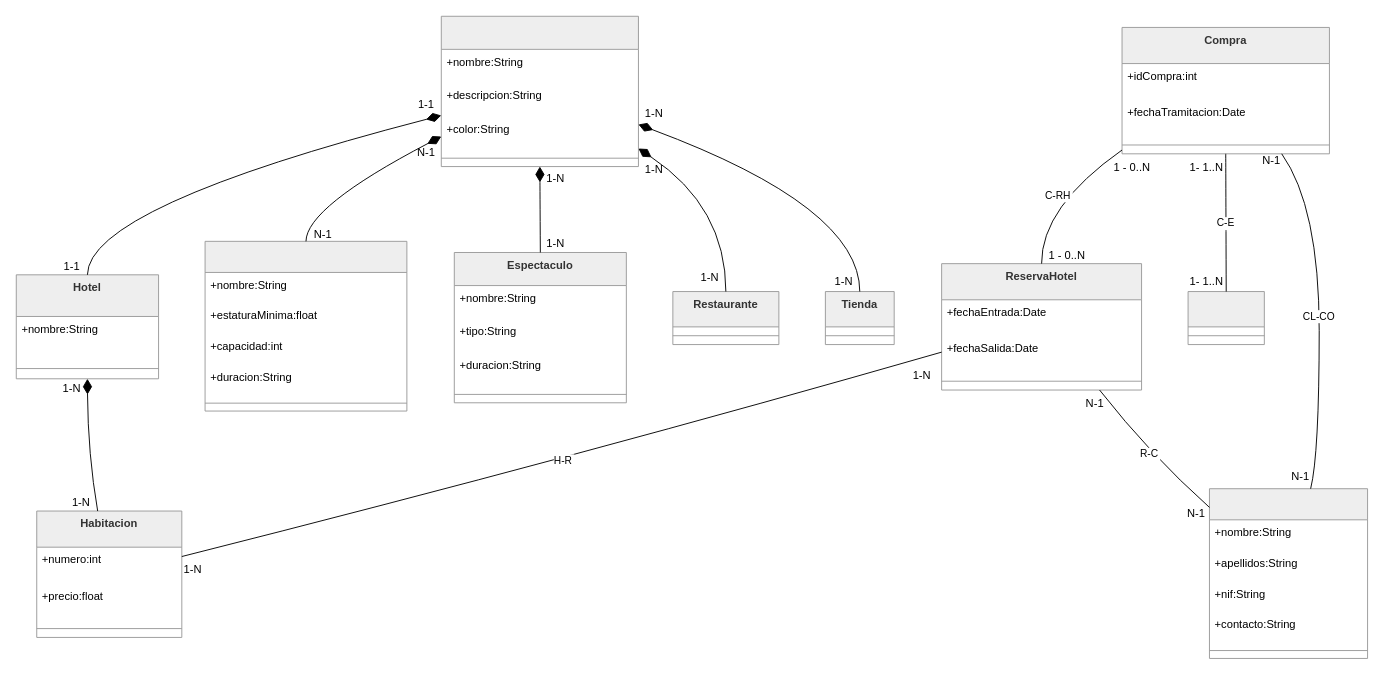
This 1384x675 diagram has some shape labels left out. The box of each missing label's shape, as (x1, y1, x2, y2) in pixels:
Atraccion: (204, 240, 407, 411)
Cliente: (1209, 488, 1368, 658)
Entrada: (1187, 291, 1264, 345)
ZonaTematica: (440, 15, 638, 167)
